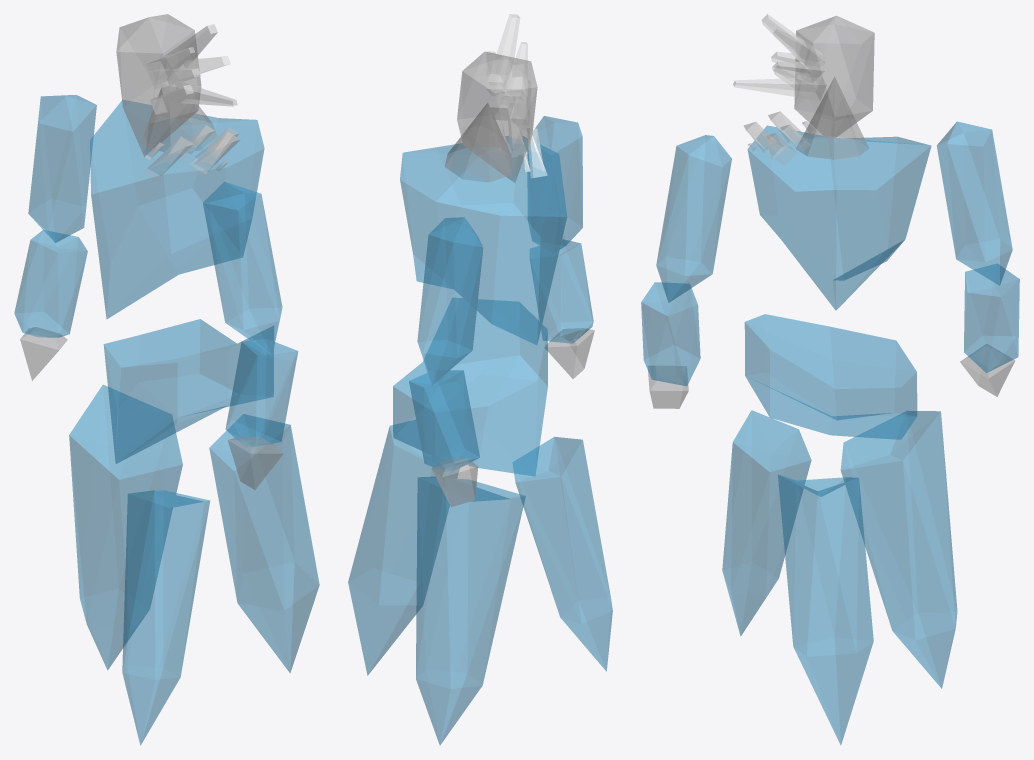
Rendered from ghostIdle16.obj.
The picture shows the model from 3 angles, left to right: view 1: azimuth 30°, elevation 25°; view 2: azimuth 150°, elevation 25°; view 3: azimuth 270°, elevation 25°; orthographic projection. The views are drawn at different scales.
Parts seen in each view (by area): view 1: Cube.001_Cube.001, Icosphere.005, Icosphere.004, Cube_Cube.002, Icosphere.003, Icosphere.005_Icosphere.001, Icosphere.003_Icosphere.001, Icosphere.007_Icosphere.001, Icosphere.008_Icosphere.001, Icosphere.006_Icosphere.001, Cone_Cone.002, Cube.002_Cube.001 (+10 smaller); view 2: Cube.001_Cube.001, Cube_Cube.002, Icosphere.005, Icosphere.004, Icosphere.003, Icosphere.007_Icosphere.001, Icosphere.003_Icosphere.001, Icosphere.005_Icosphere.001, Icosphere.008_Icosphere.001, Icosphere.006_Icosphere.001, Cone_Cone.002, Cube.003_Cube.001 (+5 smaller); view 3: Cube.001_Cube.001, Icosphere.005, Icosphere.004, Cube_Cube.002, Icosphere.003, Icosphere.005_Icosphere.001, Icosphere.007_Icosphere.001, Icosphere.003_Icosphere.001, Icosphere.006_Icosphere.001, Icosphere.008_Icosphere.001, Cone_Cone.002, Cube.003_Cube.001 (+4 smaller).
Boxes of the visible parts, bbox=[...] form: Cube.001_Cube.001: bbox=[90, 100, 264, 318]; Icosphere.005: bbox=[69, 385, 182, 669]; Icosphere.004: bbox=[209, 414, 319, 672]; Cube_Cube.002: bbox=[103, 319, 273, 463]; Icosphere.003: bbox=[122, 490, 209, 745]; Icosphere.005_Icosphere.001: bbox=[203, 181, 282, 355]; Icosphere.003_Icosphere.001: bbox=[116, 14, 201, 156]; Icosphere.007_Icosphere.001: bbox=[28, 95, 96, 242]; Icosphere.008_Icosphere.001: bbox=[14, 230, 87, 337]; Icosphere.006_Icosphere.001: bbox=[225, 339, 298, 446]; Cone_Cone.002: bbox=[144, 88, 217, 151]; Cube.002_Cube.001: bbox=[228, 437, 283, 489]; Cube.001_Cube.001: bbox=[400, 136, 567, 345]; Cube_Cube.002: bbox=[393, 298, 547, 476]; Icosphere.005: bbox=[416, 476, 525, 745]; Icosphere.004: bbox=[348, 420, 459, 675]; Icosphere.003: bbox=[513, 437, 612, 671]; Icosphere.007_Icosphere.001: bbox=[417, 217, 483, 385]; Icosphere.003_Icosphere.001: bbox=[457, 51, 537, 182]; Icosphere.005_Icosphere.001: bbox=[527, 116, 582, 252]; Icosphere.008_Icosphere.001: bbox=[409, 370, 479, 473]; Icosphere.006_Icosphere.001: bbox=[530, 239, 593, 343]; Cone_Cone.002: bbox=[445, 103, 511, 182]; Cube.003_Cube.001: bbox=[432, 456, 478, 506]; Cube.001_Cube.001: bbox=[747, 125, 931, 310]; Icosphere.005: bbox=[840, 411, 957, 688]; Icosphere.004: bbox=[778, 474, 873, 744]; Cube_Cube.002: bbox=[744, 314, 917, 439]; Icosphere.003: bbox=[722, 410, 811, 636]; Icosphere.005_Icosphere.001: bbox=[656, 135, 731, 302]; Icosphere.007_Icosphere.001: bbox=[937, 121, 1012, 285]; Icosphere.003_Icosphere.001: bbox=[794, 15, 874, 137]; Icosphere.006_Icosphere.001: bbox=[641, 282, 700, 386]; Icosphere.008_Icosphere.001: bbox=[964, 264, 1019, 372]; Cone_Cone.002: bbox=[796, 77, 868, 159]; Cube.003_Cube.001: bbox=[960, 344, 1015, 396].
Size of the model in its own units: 16.59 by 49.53 by 25.03.
